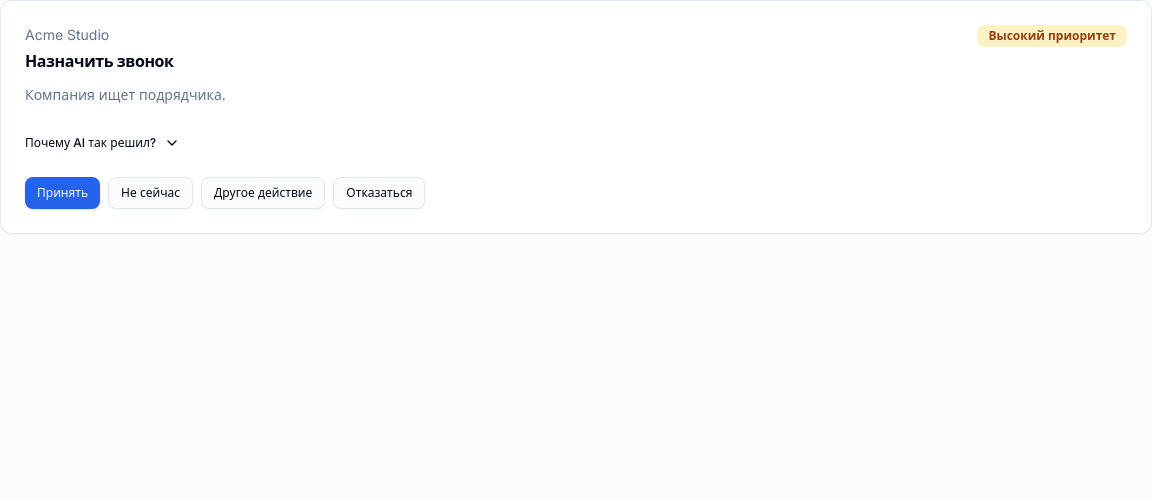
Test case: NeedsDecisionCard › renders company, title, description, priority, Why-AI and Knowledge
Expected: the text "Acme Studio" is shown, [25,26,109,43]
Expected: the heading "Назначить звонок" is shown, [25,49,174,73]
Click the button "Почему AI так решил?" at (103, 143), box [25,135,180,151]
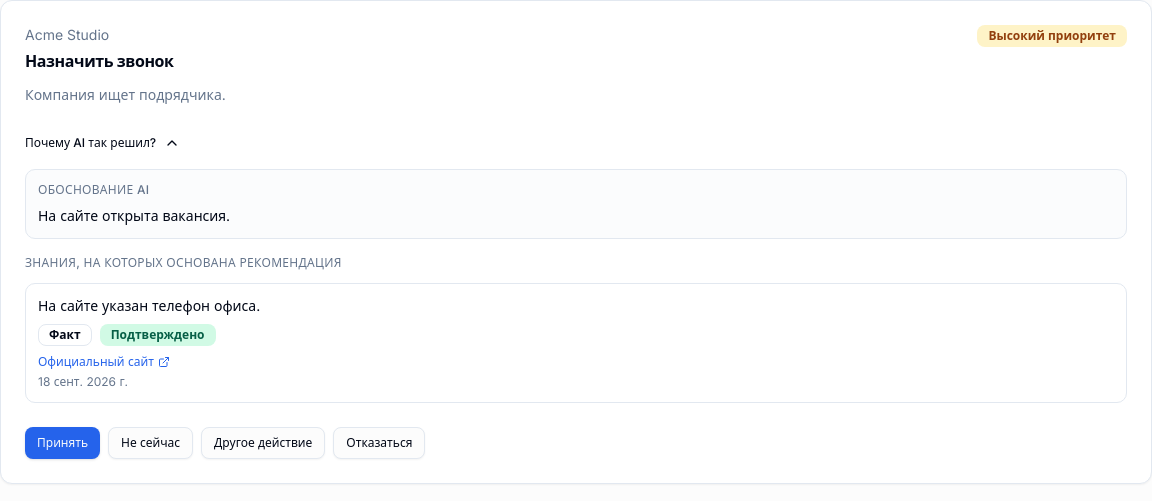
Result: the text "На сайте открыта вакансия." is shown at [38,207,230,224]
Result: the text "На сайте указан телефон офиса." is shown at [38,297,260,314]
Result: the text "Факт" is shown at [38,324,92,346]
